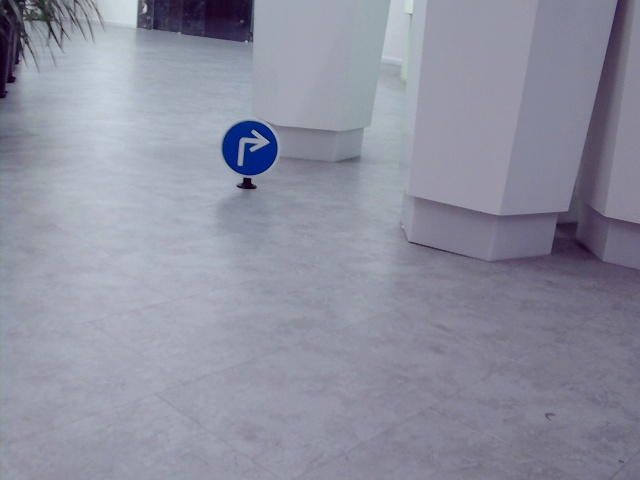turn_right: (237, 127, 268, 170)
